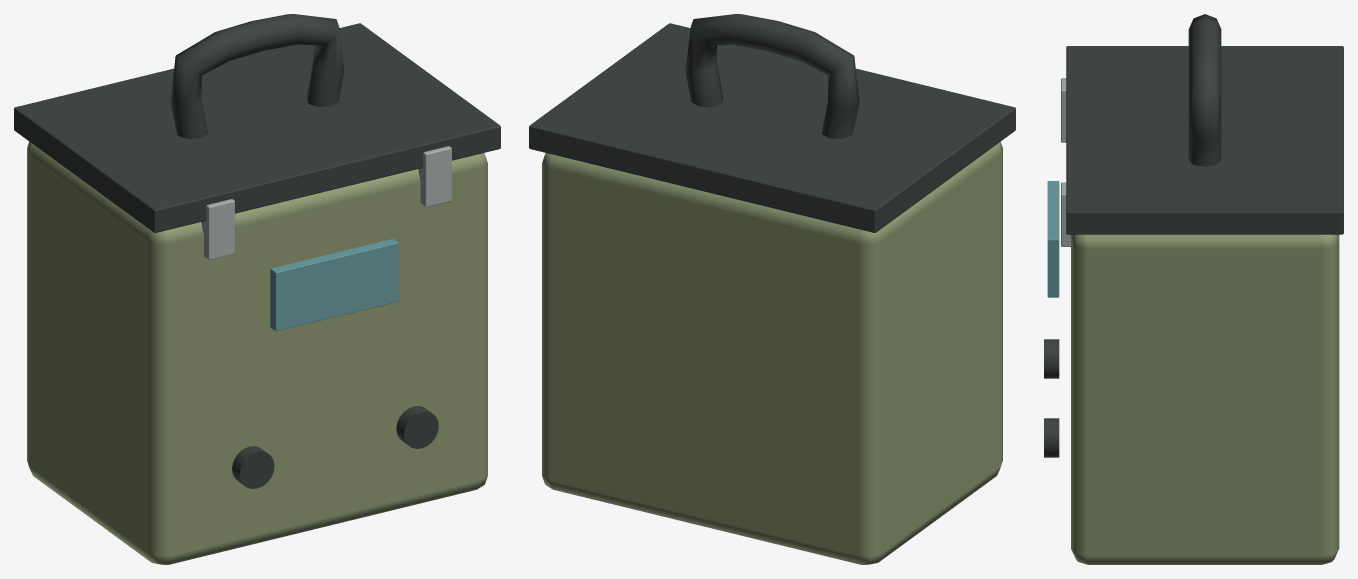
Rendered from off-grid-power-and-controls-lithium-power-box-7c248e14__2983.glb.
3 views of the same model, side by side, from view 1: azimuth 30°, elevation 25°; view 2: azimuth 150°, elevation 25°; view 3: azimuth 270°, elevation 25° (orthographic).
Parts seen in each view (by area): view 1: lithium-power-box, lid/dark; view 2: lithium-power-box, lid/dark; view 3: lithium-power-box, lid/dark.
Boxes of the visible parts, x1=… form: lithium-power-box: x1=27, y1=14, x2=487, y2=564; lid/dark: x1=14, y1=23, x2=500, y2=232; lithium-power-box: x1=542, y1=14, x2=1002, y2=564; lid/dark: x1=529, y1=23, x2=1015, y2=232; lithium-power-box: x1=1044, y1=14, x2=1339, y2=564; lid/dark: x1=1066, y1=46, x2=1343, y2=234.
Bounding box in the file's own units: 0.338 × 0.4308 × 0.257.
